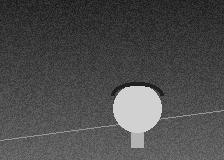no_helmet: (113, 82, 161, 137)
